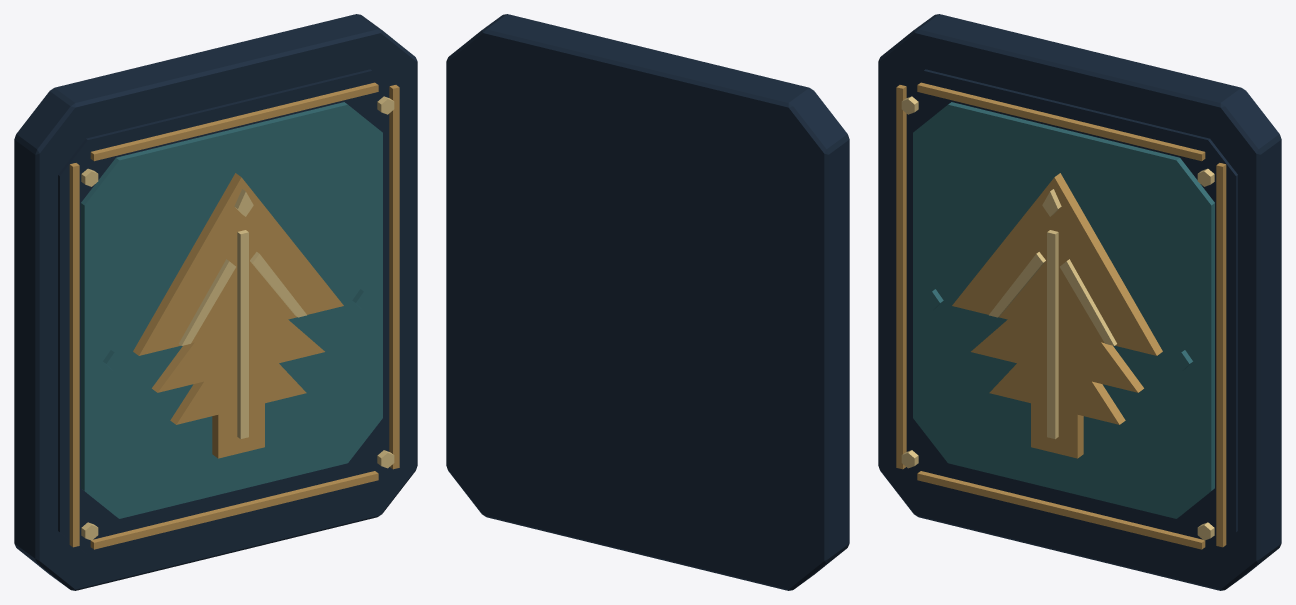
The model's file is 0-20261016-1900-ev005-r01-lobby-crestwallplaque.fbx.
3 views of the same model, side by side, from view 1: azimuth 30°, elevation 25°; view 2: azimuth 150°, elevation 25°; view 3: azimuth 330°, elevation 25° (orthographic).
Parts seen in each view (by area): view 1: SW_Lobby_CrestWallPlaque; view 2: SW_Lobby_CrestWallPlaque; view 3: SW_Lobby_CrestWallPlaque.
Part boxes in pixels (left/top/right/bottom): SW_Lobby_CrestWallPlaque: left=14, top=14, right=417, bottom=590; SW_Lobby_CrestWallPlaque: left=446, top=14, right=849, bottom=590; SW_Lobby_CrestWallPlaque: left=878, top=14, right=1281, bottom=590.
Bounding box in the file's own units: 164 × 200 × 31.2.
